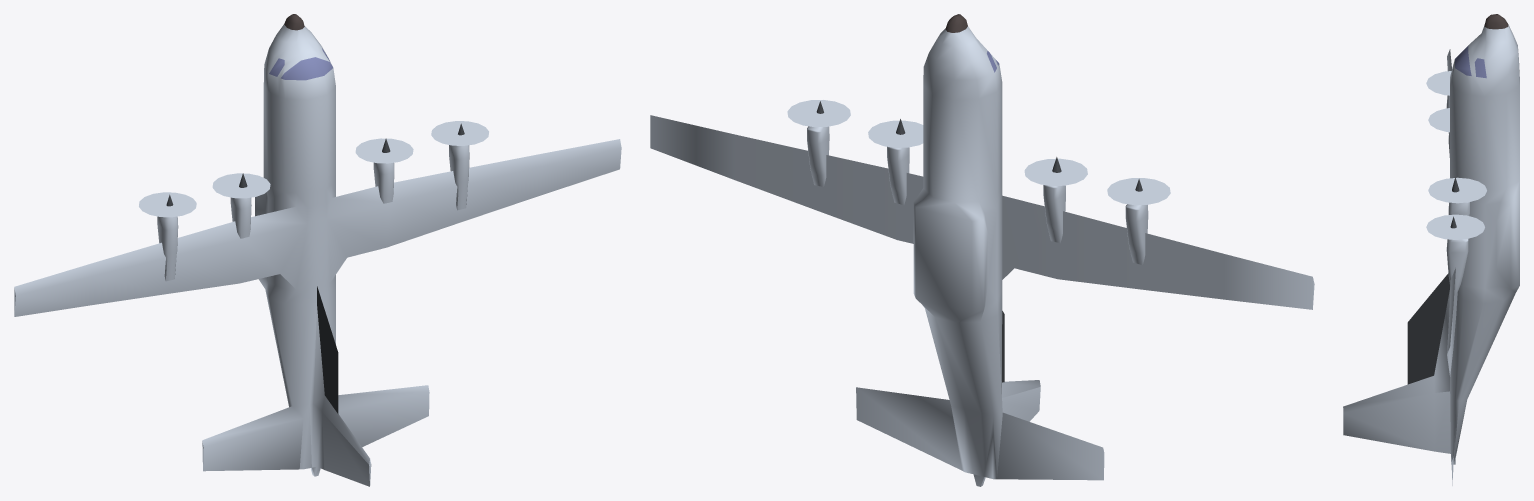
3 renders of one model, left to right at view 1: azimuth 30°, elevation 25°; view 2: azimuth 150°, elevation 25°; view 3: azimuth 270°, elevation 25°, orthographic. The views are drawn at different scales.
Visible parts, largest first — view 1: db_ec130_lv1_LOD child0_body_p13817_Geometry_0.001, db_ec130_lv1_LOD child0_rwing_p13920_Geometry_0.001, db_ec130_lv1_LOD child0_lwing_p14031_Geometry_0.001, db_ec130_lv1_LOD child0_lstab_p14027_Geometry_0.001, db_ec130_lv1_LOD child0_rstab_p13916_Geometry_0.001, db_ec130_lv1_LOD child0_rudder_p14056_Geometry_0.001, db_ec130_lv1_LOD child0_rudder_p13807_Geometry_0.001, db_ec130_lv1_LOD child0_prop4_p13937_Geometry_0.001, db_ec130_lv1_LOD child0_prop1_p13833_Geometry_0.001, db_ec130_lv1_LOD child0_prop3_p13935_Geometry_0.001, db_ec130_lv1_LOD child0_prop2_p13835_Geometry_0.001, db_ec130_lv1_LOD child0_cpit_p13812_Geometry_0.001 (+4 smaller); view 2: db_ec130_lv1_LOD child0_body_p13817_Geometry_0.001, db_ec130_lv1_LOD child0_lwing_p14031_Geometry_0.001, db_ec130_lv1_LOD child0_rwing_p13920_Geometry_0.001, db_ec130_lv1_LOD child0_lstab_p14027_Geometry_0.001, db_ec130_lv1_LOD child0_rstab_p13916_Geometry_0.001, db_ec130_lv1_LOD child0_rudder_p14056_Geometry_0.001, db_ec130_lv1_LOD child0_prop4_p13937_Geometry_0.001, db_ec130_lv1_LOD child0_prop1_p13833_Geometry_0.001, db_ec130_lv1_LOD child0_prop3_p13935_Geometry_0.001, db_ec130_lv1_LOD child0_prop2_p13835_Geometry_0.001, db_ec130_lv1_LOD child0_eng4_p13939_Geometry_0.001, db_ec130_lv1_LOD child0_eng1_p13872_Geometry_0.001 (+2 smaller); view 3: db_ec130_lv1_LOD child0_body_p13817_Geometry_0.001, db_ec130_lv1_LOD child0_rudder_p14056_Geometry_0.001, db_ec130_lv1_LOD child0_rudder_p13807_Geometry_0.001, db_ec130_lv1_LOD child0_prop1_p13833_Geometry_0.001, db_ec130_lv1_LOD child0_prop2_p13835_Geometry_0.001, db_ec130_lv1_LOD child0_eng1_p13872_Geometry_0.001, db_ec130_lv1_LOD child0_rwing_p13920_Geometry_0.001, db_ec130_lv1_LOD child0_cpit_p13812_Geometry_0.001, db_ec130_lv1_LOD child0_prop4_p13937_Geometry_0.001, db_ec130_lv1_LOD child0_prop3_p13935_Geometry_0.001, db_ec130_lv1_LOD child0_nose_p14066_Geometry_0.001, db_ec130_lv1_LOD child0_rstab_p13916_Geometry_0.001 (+1 smaller).
Part boxes in pixels (x1=…): db_ec130_lv1_LOD child0_body_p13817_Geometry_0.001: x1=255, y1=24, x2=335, y2=476; db_ec130_lv1_LOD child0_rwing_p13920_Geometry_0.001: x1=327, y1=139, x2=621, y2=280; db_ec130_lv1_LOD child0_lwing_p14031_Geometry_0.001: x1=14, y1=206, x2=307, y2=316; db_ec130_lv1_LOD child0_lstab_p14027_Geometry_0.001: x1=202, y1=406, x2=303, y2=471; db_ec130_lv1_LOD child0_rstab_p13916_Geometry_0.001: x1=338, y1=385, x2=429, y2=447; db_ec130_lv1_LOD child0_rudder_p14056_Geometry_0.001: x1=313, y1=306, x2=371, y2=486; db_ec130_lv1_LOD child0_rudder_p13807_Geometry_0.001: x1=317, y1=286, x2=338, y2=413; db_ec130_lv1_LOD child0_prop4_p13937_Geometry_0.001: x1=139, y1=192, x2=196, y2=217; db_ec130_lv1_LOD child0_prop1_p13833_Geometry_0.001: x1=431, y1=121, x2=488, y2=145; db_ec130_lv1_LOD child0_prop3_p13935_Geometry_0.001: x1=212, y1=173, x2=270, y2=198; db_ec130_lv1_LOD child0_prop2_p13835_Geometry_0.001: x1=355, y1=138, x2=413, y2=163; db_ec130_lv1_LOD child0_cpit_p13812_Geometry_0.001: x1=269, y1=48, x2=333, y2=80; db_ec130_lv1_LOD child0_body_p13817_Geometry_0.001: x1=913, y1=26, x2=1002, y2=486; db_ec130_lv1_LOD child0_lwing_p14031_Geometry_0.001: x1=1002, y1=195, x2=1314, y2=309; db_ec130_lv1_LOD child0_rwing_p13920_Geometry_0.001: x1=650, y1=115, x2=923, y2=243; db_ec130_lv1_LOD child0_lstab_p14027_Geometry_0.001: x1=997, y1=412, x2=1104, y2=480; db_ec130_lv1_LOD child0_rstab_p13916_Geometry_0.001: x1=856, y1=387, x2=962, y2=470; db_ec130_lv1_LOD child0_rudder_p14056_Geometry_0.001: x1=1002, y1=380, x2=1040, y2=421; db_ec130_lv1_LOD child0_prop4_p13937_Geometry_0.001: x1=1107, y1=178, x2=1170, y2=205; db_ec130_lv1_LOD child0_prop1_p13833_Geometry_0.001: x1=787, y1=100, x2=850, y2=127; db_ec130_lv1_LOD child0_prop3_p13935_Geometry_0.001: x1=1024, y1=158, x2=1087, y2=185; db_ec130_lv1_LOD child0_prop2_p13835_Geometry_0.001: x1=868, y1=120, x2=923, y2=147; db_ec130_lv1_LOD child0_eng4_p13939_Geometry_0.001: x1=1125, y1=204, x2=1148, y2=265; db_ec130_lv1_LOD child0_eng1_p13872_Geometry_0.001: x1=807, y1=126, x2=829, y2=186; db_ec130_lv1_LOD child0_body_p13817_Geometry_0.001: x1=1450, y1=24, x2=1519, y2=464; db_ec130_lv1_LOD child0_rudder_p14056_Geometry_0.001: x1=1343, y1=290, x2=1450, y2=453; db_ec130_lv1_LOD child0_rudder_p13807_Geometry_0.001: x1=1407, y1=273, x2=1449, y2=384; db_ec130_lv1_LOD child0_prop1_p13833_Geometry_0.001: x1=1426, y1=214, x2=1484, y2=239; db_ec130_lv1_LOD child0_prop2_p13835_Geometry_0.001: x1=1428, y1=177, x2=1486, y2=203; db_ec130_lv1_LOD child0_eng1_p13872_Geometry_0.001: x1=1446, y1=239, x2=1468, y2=295; db_ec130_lv1_LOD child0_rwing_p13920_Geometry_0.001: x1=1447, y1=267, x2=1457, y2=376; db_ec130_lv1_LOD child0_cpit_p13812_Geometry_0.001: x1=1455, y1=46, x2=1486, y2=78; db_ec130_lv1_LOD child0_prop4_p13937_Geometry_0.001: x1=1426, y1=71, x2=1451, y2=95; db_ec130_lv1_LOD child0_prop3_p13935_Geometry_0.001: x1=1428, y1=108, x2=1449, y2=132; db_ec130_lv1_LOD child0_nose_p14066_Geometry_0.001: x1=1484, y1=14, x2=1508, y2=29; db_ec130_lv1_LOD child0_rstab_p13916_Geometry_0.001: x1=1451, y1=401, x2=1456, y2=485.
Size of the model in its own units: 44 by 30.87 by 11.02.
